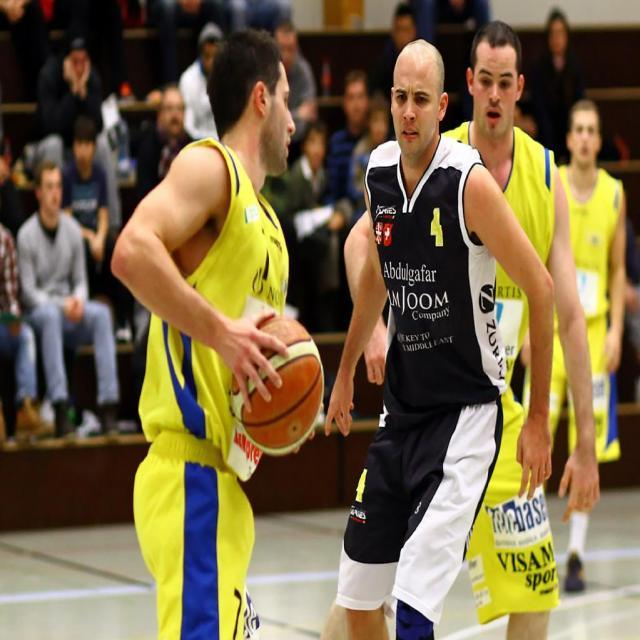rim: (234, 315, 324, 456)
